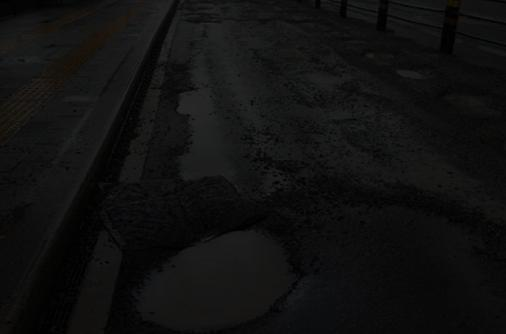pothole: (121, 201, 312, 334)
